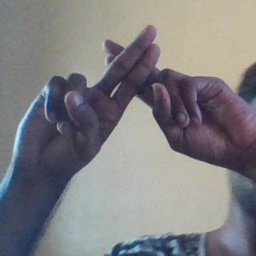F: (78, 21, 187, 138)
